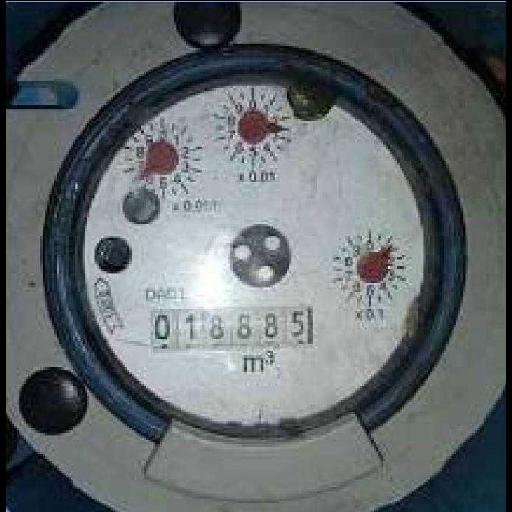0: (152, 311, 179, 349)
1: (177, 310, 203, 348)
5: (285, 307, 309, 343)
8: (259, 307, 286, 344), (206, 310, 232, 346), (233, 309, 258, 345)
border_water_meter_number: (148, 303, 315, 354)
